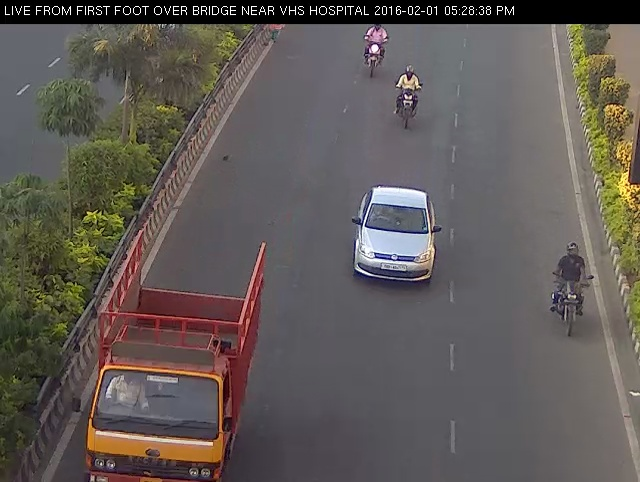Bus: (77, 229, 274, 480)
Car: (343, 171, 448, 297)
Person: (538, 235, 602, 342), (352, 19, 397, 89), (391, 60, 428, 135)
